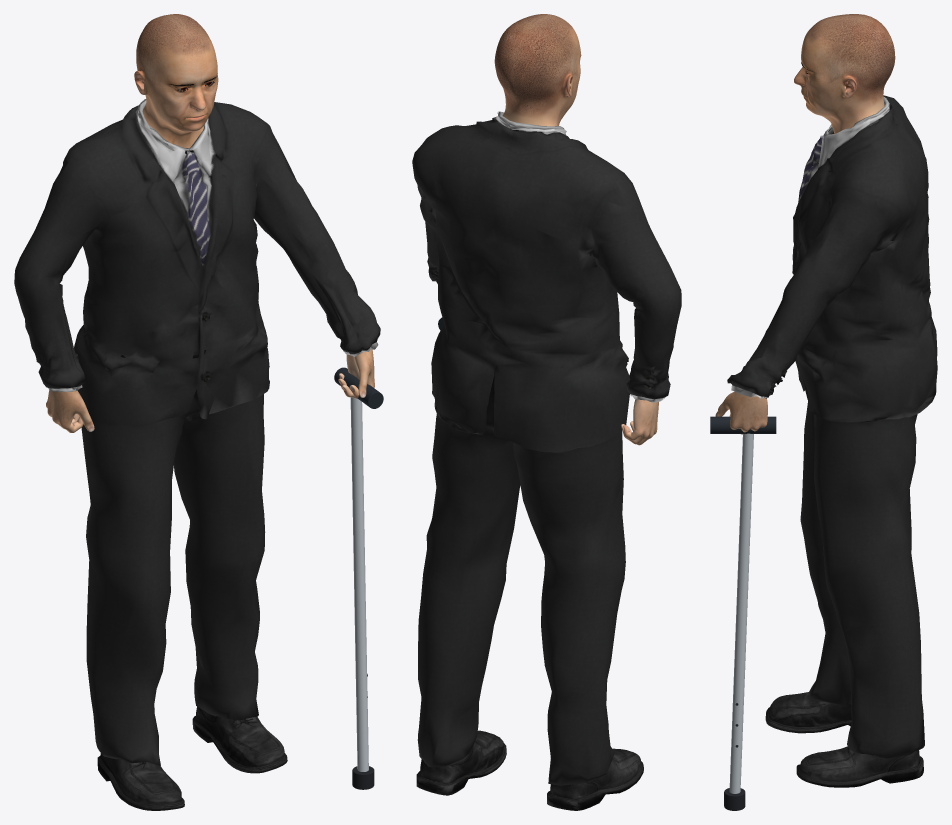
The model's file is ellis-3d-person-older-man-with-cane.glb.
3 views of the same model, side by side, from view 1: azimuth 30°, elevation 25°; view 2: azimuth 150°, elevation 25°; view 3: azimuth 270°, elevation 25° (orthographic). The views are drawn at different scales.
Visible parts, largest first — view 1: male_elegantsuit01, Ellis | anatomical body, shoes04, Cane | original adjustable shaft, Cane | short grip core; view 2: male_elegantsuit01, Ellis | anatomical body, shoes04; view 3: male_elegantsuit01, Ellis | anatomical body, shoes04, Cane | original adjustable shaft, Cane | short grip core, Cane | rubber ground ferrule.
Part boxes in pixels (box(x1,y1,x2,y2)): male_elegantsuit01: box(14, 99, 380, 765); Ellis | anatomical body: box(46, 14, 374, 432); shoes04: box(97, 706, 287, 810); Cane | original adjustable shaft: box(350, 397, 368, 771); Cane | short grip core: box(334, 367, 383, 408); male_elegantsuit01: box(412, 111, 681, 785); Ellis | anatomical body: box(494, 14, 658, 445); shoes04: box(416, 730, 643, 810); male_elegantsuit01: box(727, 95, 937, 757); Ellis | anatomical body: box(715, 14, 895, 434); shoes04: box(765, 692, 923, 787); Cane | original adjustable shaft: box(729, 433, 753, 793); Cane | short grip core: box(710, 416, 776, 433); Cane | rubber ground ferrule: box(724, 788, 745, 810).
Size of the model in its own units: 0.728 by 1.74 by 0.4926.
Materials: 10 (10 with a texture image).
